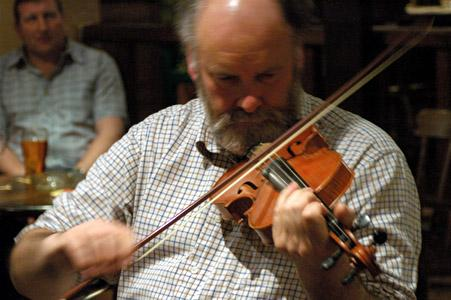person: (11, 1, 424, 300)
